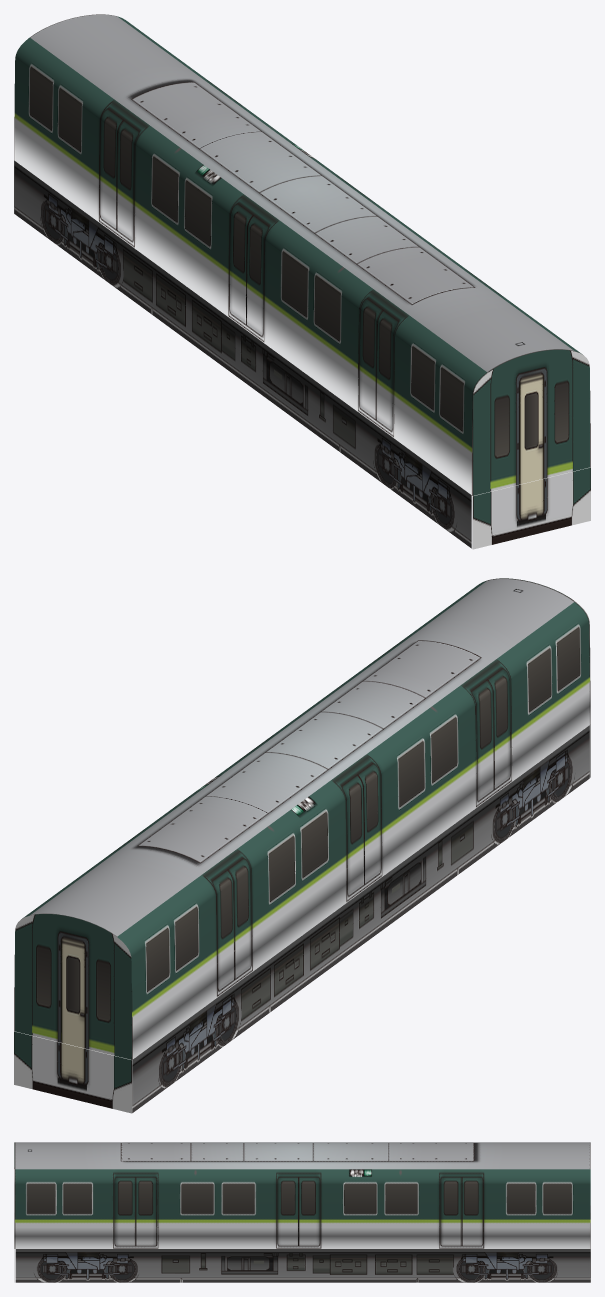
File: car2.glb
3 renders of one model, top to bottom at view 1: azimuth 30°, elevation 25°; view 2: azimuth 150°, elevation 25°; view 3: azimuth 270°, elevation 25°, orthographic. The views are drawn at different scales.
Parts seen in each view (by area): view 1: keihan-7200-car2; view 2: keihan-7200-car2; view 3: keihan-7200-car2.
Part boxes in pixels (x1,y1,x2,y2): keihan-7200-car2: (14, 14, 590, 549); keihan-7200-car2: (14, 578, 590, 1113); keihan-7200-car2: (14, 1142, 590, 1282).
Size of the model in its own units: 2.78 by 4.09 by 18.73.
9 materials, 8 textured.
